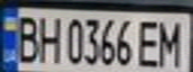0: (63, 14, 84, 65)
3: (81, 15, 100, 66)
6: (115, 16, 139, 68), (100, 15, 118, 67)
B: (9, 11, 42, 64)
E: (136, 17, 163, 69)
H: (33, 12, 63, 64)
M: (154, 16, 187, 69)
